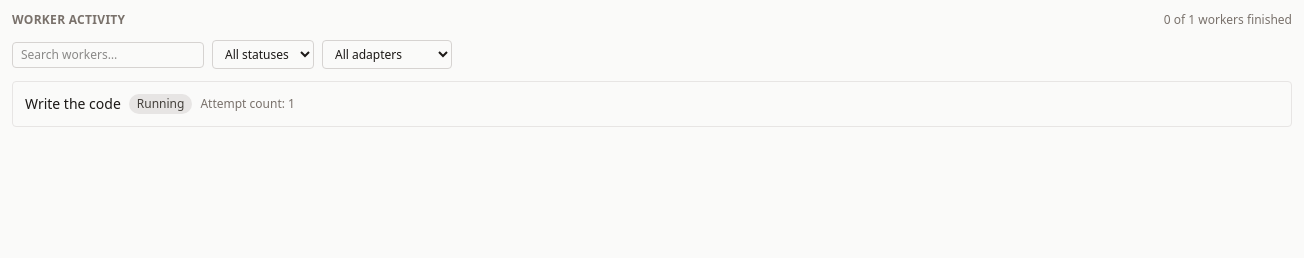
Test case: CeoWorkerActivityPanel › renders live events for an expanded worker via the shared TaskEventTimeline
The image size is (1304, 258).
Click the text "Write the code". click: x=73, y=104
box: x1=25 y1=94 x2=121 y2=114
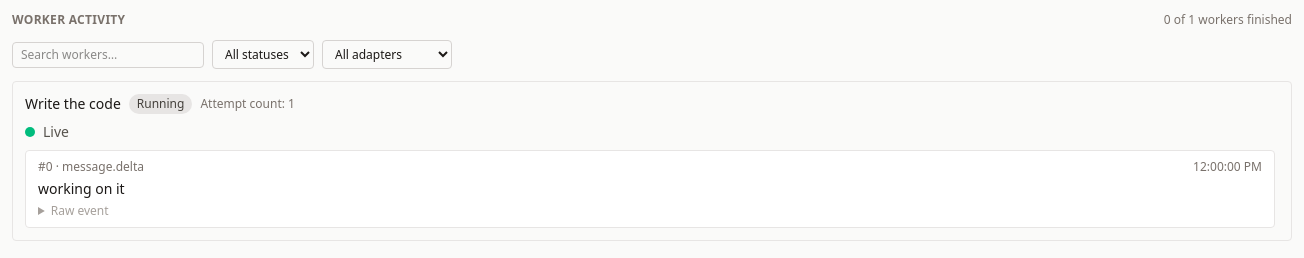
Now the text "working on it" is shown, box x1=38 y1=179 x2=125 y2=198
